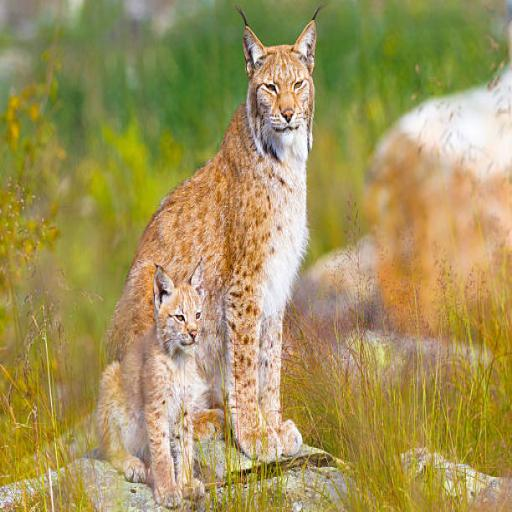lynx: (98, 20, 315, 506)
